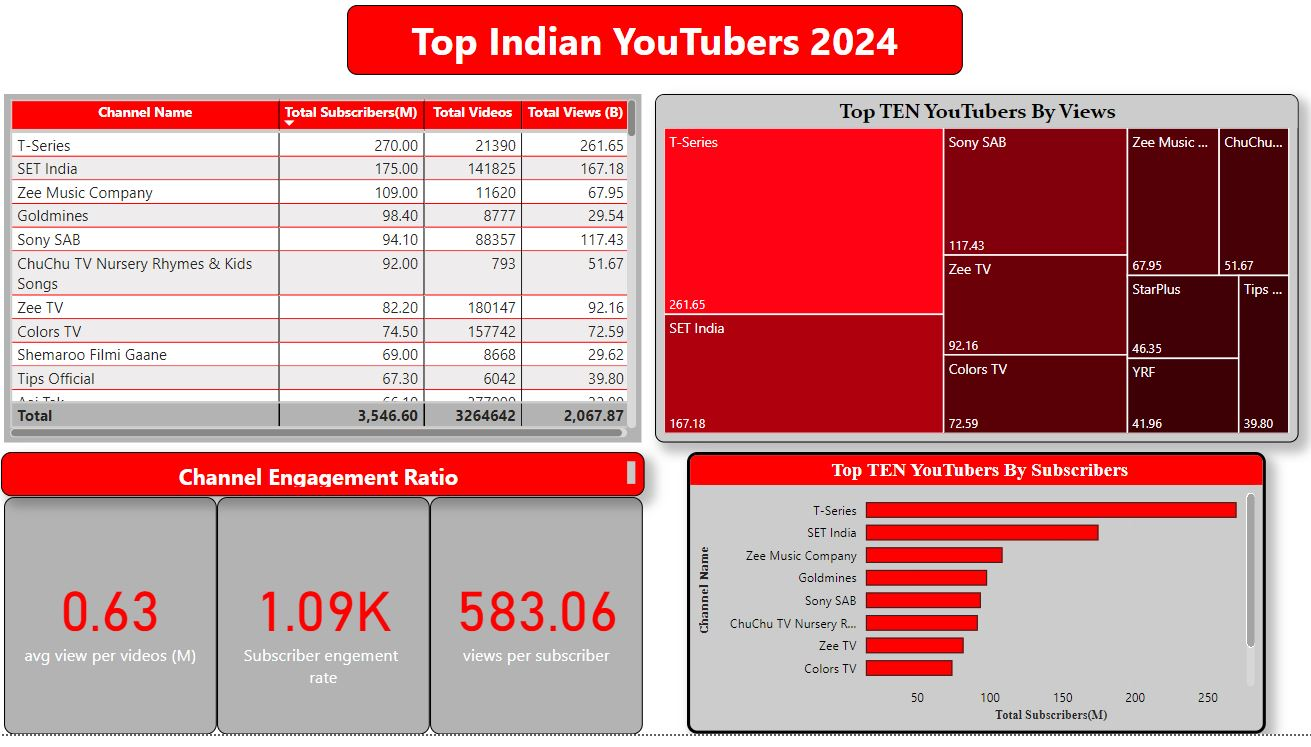

What the dashboard file says about the page in this screenshot:
{"tool":"powerbi","page":{"name":"Page 1","canvas":[1280,720],"ordinal":0},"visuals":[{"type":"textbox","box":[340.4,10.7,599.1,68.1],"z":0},{"type":"tableEx","fields":{"Values":["View_YT_data_.Channel_Name","View_YT_data_.Total Subscribers(M)","View_YT_data_.Total Videos","View_YT_data_.Total Views (B)"]},"box":[7.2,97.2,620.4,339.1],"z":1000},{"type":"treemap","title":"Top TEN YouTubers By Views","fields":{"Group":["View_YT_data_.Channel_Name"],"Values":["View_YT_data_.Total Views (B)"]},"box":[640,97.2,625.5,339.1],"z":2000},{"type":"card","fields":{"Values":["View_YT_data_.avg view per videos (M)"]},"box":[7.2,489,206.8,230.6],"z":3000},{"type":"card","fields":{"Values":["View_YT_data_.Subscriber engement rate"]},"box":[214,489,206.8,230.6],"z":4000},{"type":"card","fields":{"Values":["View_YT_data_.views per subscriber"]},"box":[420.8,489,206.8,230.6],"z":5000},{"type":"clusteredBarChart","title":"Top TEN YouTubers By Subscribers","fields":{"Category":["View_YT_data_.Channel_Name"],"Y":["View_YT_data_.Total Subscribers(M)"]},"box":[671,445.6,563.5,274],"z":6000},{"type":"textbox","box":[4.1,445.6,625.5,43.4],"z":6001}]}

Visuals, with their boxes in screenshot pixels (x1, y1, x2, y2), scaled from the page's 1280x720 canvas onto the 1311x747 screenshot:
textbox: [x1=349, y1=11, x2=962, y2=82]
tableEx - View_YT_data_.Channel_Name x View_YT_data_.Total Subscribers(M): [x1=7, y1=101, x2=643, y2=453]
"Top TEN YouTubers By Views" treemap: [x1=656, y1=101, x2=1296, y2=453]
card - View_YT_data_.avg view per videos (M): [x1=7, y1=507, x2=219, y2=746]
card - View_YT_data_.Subscriber engement rate: [x1=219, y1=507, x2=431, y2=746]
card - View_YT_data_.views per subscriber: [x1=431, y1=507, x2=643, y2=746]
"Top TEN YouTubers By Subscribers" clusteredBarChart: [x1=687, y1=462, x2=1264, y2=746]
textbox: [x1=4, y1=462, x2=645, y2=507]
